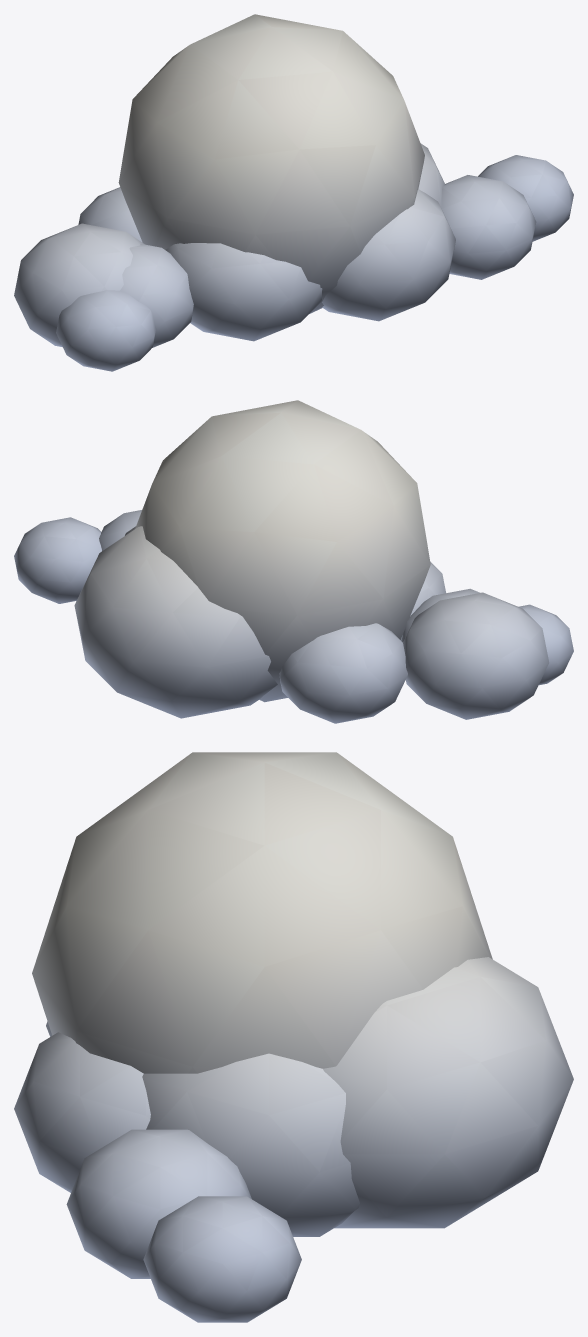
File: cloud_b.glb
The picture shows the model from 3 angles, top to bottom: view 1: azimuth 30°, elevation 25°; view 2: azimuth 150°, elevation 25°; view 3: azimuth 270°, elevation 25°; orthographic projection. The views are drawn at different scales.
Visible parts, largest first — view 1: Cloud; view 2: Cloud; view 3: Cloud.
Part boxes in pixels (left/top/right/bottom): Cloud: left=14, top=14, right=573, bottom=371; Cloud: left=14, top=400, right=573, bottom=723; Cloud: left=14, top=752, right=573, bottom=1322.
Size of the model in its own units: 7.87 by 4 by 4.81.
